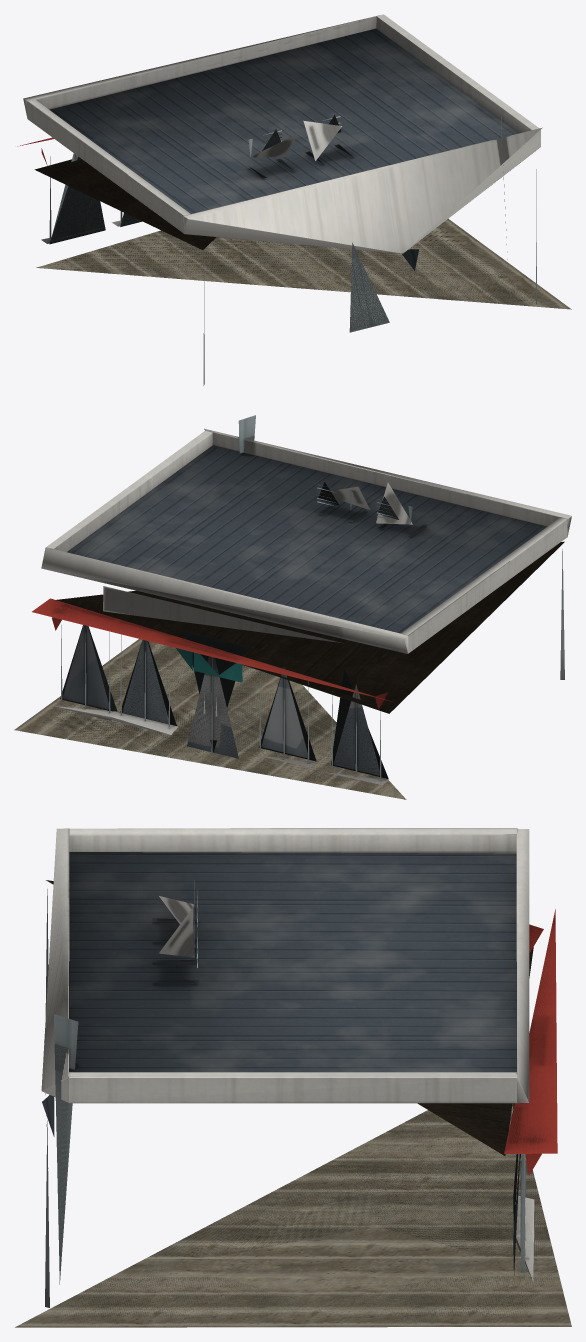
File: shop_004.lod2.obj
3 views of the same model, one above another, from view 1: azimuth 30°, elevation 25°; view 2: azimuth 150°, elevation 25°; view 3: azimuth 270°, elevation 25° (orthographic). The views are drawn at different scales.
Parts seen in each view (by area): view 1: shop_004; view 2: shop_004; view 3: shop_004.
Part boxes in pixels (<box>): shop_004: <box>17,14,571,385</box>; shop_004: <box>14,415,571,799</box>; shop_004: <box>15,828,571,1327</box>.
Bounding box in the file's own units: 7.75 × 3.88 × 7.1.
Materials: 1 (1 with a texture image).
